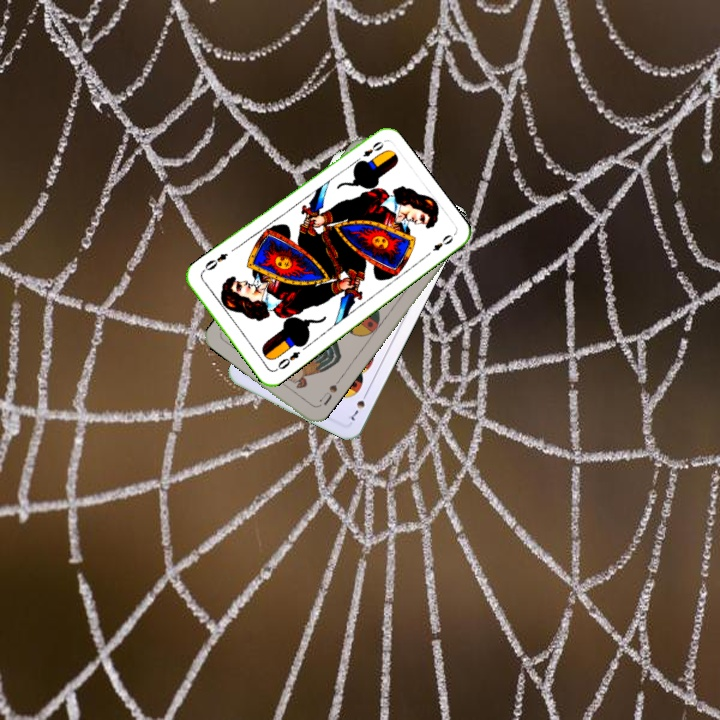EO: (274, 347, 303, 372), (359, 137, 386, 159)
S7: (347, 387, 371, 423)
SU: (313, 380, 340, 410)
